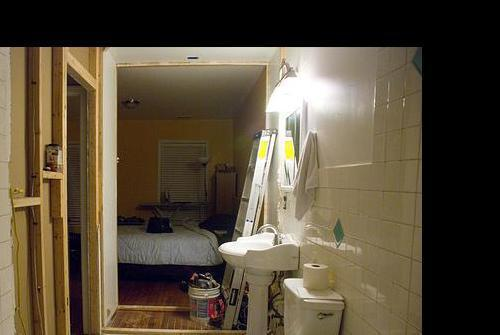Lavamanos: (217, 228, 294, 277)
Sanitario: (186, 284, 339, 335)
